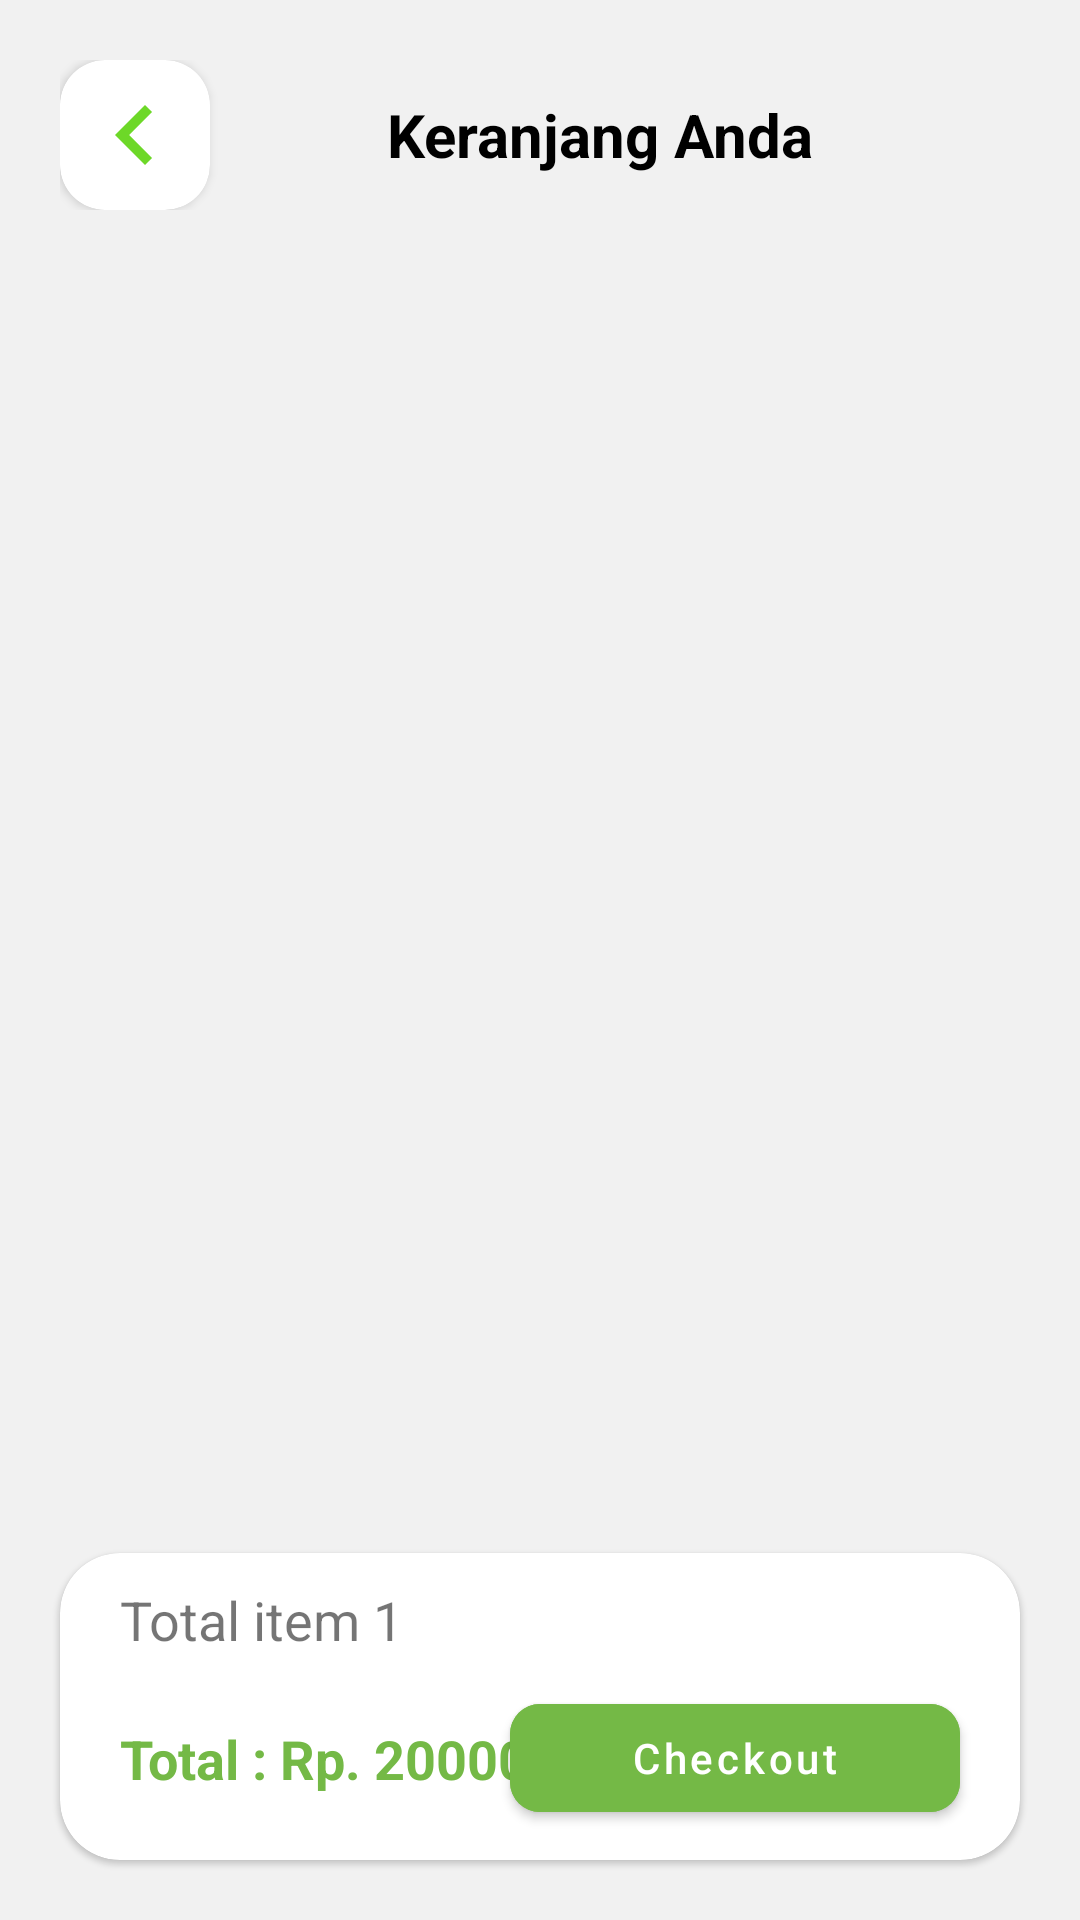

Where icons sit on this 1080x1920 app screen, as (x1, y1, x2, y2):
chevron left: (115, 105, 152, 165)
